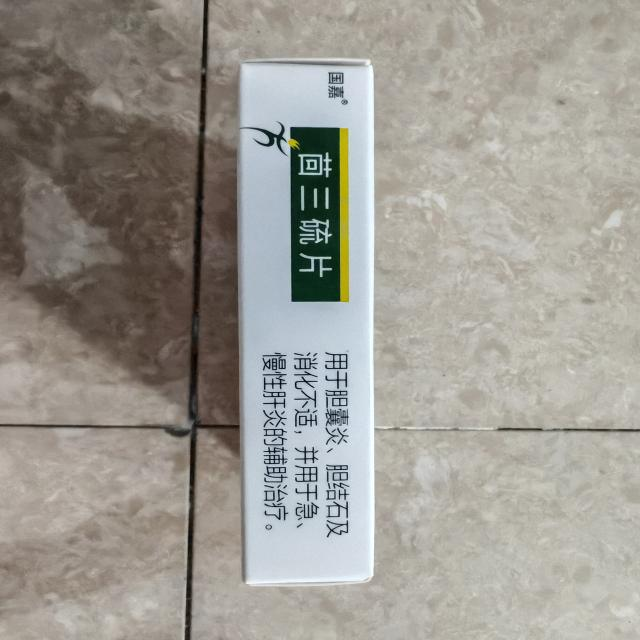box: (223, 52, 396, 596)
